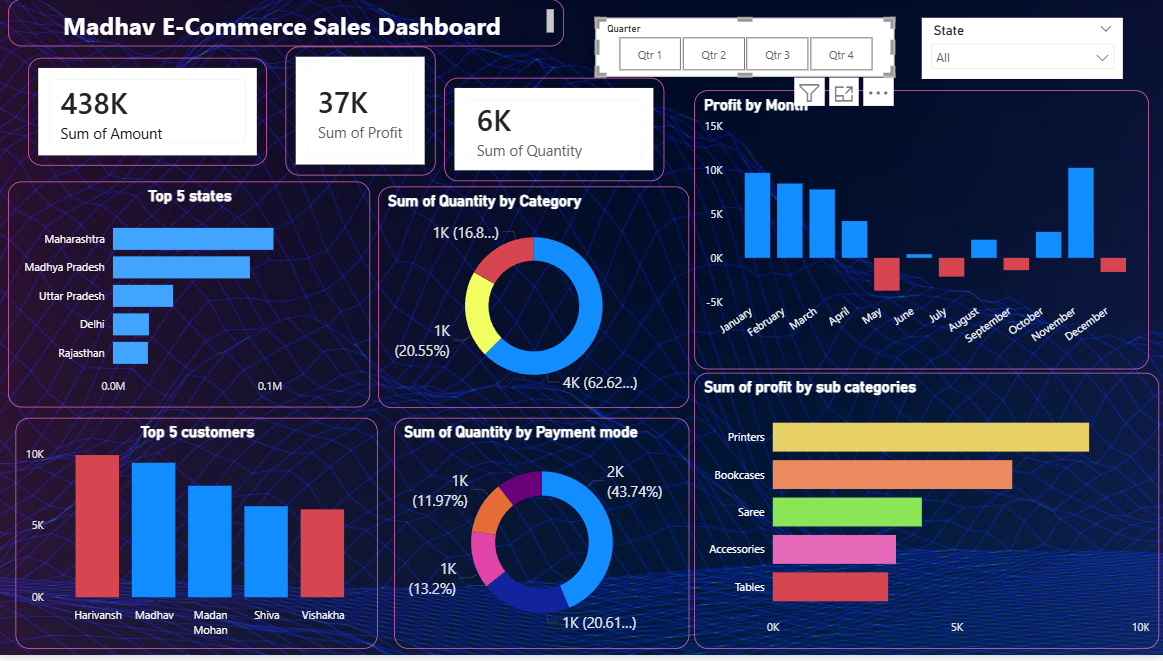

The page's visual inventory and layout, read from the dashboard file:
{"tool":"powerbi","page":{"name":"Page 1","canvas":[1280,720],"ordinal":0},"visuals":[{"type":"textbox","box":[11,0,610.6,52.1],"z":0},{"type":"columnChart","title":"Profit by Month","fields":{"Category":["Orders.Order Date.Variation.Date Hierarchy.Month"],"Y":["Sum(Details.Profit)"]},"box":[764.3,100.2,499.5,306],"z":1000},{"type":"barChart","title":"Sum of profit by sub categories","fields":{"Category":["Details.Sub-Category"],"Y":["Sum(Details.Profit)"]},"box":[764.3,410.3,510.5,303.3],"z":2000},{"type":"donutChart","title":"Sum of Quantity by Category","fields":{"Category":["Details.Category"],"Y":["Sum(Details.Quantity)"]},"box":[417.2,205.8,341.7,242.9],"z":3000},{"type":"donutChart","title":"Sum of Quantity by Payment mode","fields":{"Y":["Sum(Details.Quantity)"],"Category":["Details.PaymentMode"]},"box":[435,459.7,323.8,253.9],"z":4000},{"type":"cardVisual","fields":{"Data":["Sum(Details.Amount)"]},"box":[32.9,64.5,262.1,118],"z":5000},{"type":"cardVisual","title":"Sum of Profit","fields":{"Data":["Sum(Details.Profit)"]},"box":[315.6,52.1,164.7,141.3],"z":6000},{"type":"cardVisual","title":"Sum of Quantity","fields":{"Data":["Sum(Details.Quantity)"]},"box":[489.9,86.4,241.5,113.9],"z":7000},{"type":"barChart","title":"Top 5 states","fields":{"Category":["Orders.State"],"Y":["Sum(Details.Amount)"]},"box":[11,200.3,397.9,248.4],"z":8000},{"type":"columnChart","title":"Top 5 customers","fields":{"Category":["Orders.CustomerName"],"Y":["Sum(Details.Amount)"]},"box":[19.2,459.7,397.9,253.9],"z":9000},{"type":"slicer","fields":{"Values":["Orders.Order Date.Variation.Date Hierarchy.Quarter"]},"box":[655.9,20.6,328,64.5],"z":9001},{"type":"slicer","fields":{"Values":["Orders.State"]},"box":[1014.1,20.6,220.9,67.2],"z":9002}]}

Visuals, with their boxes in screenshot pixels (x1, y1, x2, y2), scaled from the page's 1280x720 canvas onto the 1163x661 screenshot:
textbox: {"x1": 10, "y1": 0, "x2": 565, "y2": 48}
"Profit by Month" columnChart: {"x1": 694, "y1": 92, "x2": 1148, "y2": 373}
"Sum of profit by sub categories" barChart: {"x1": 694, "y1": 377, "x2": 1158, "y2": 655}
"Sum of Quantity by Category" donutChart: {"x1": 379, "y1": 189, "x2": 690, "y2": 412}
"Sum of Quantity by Payment mode" donutChart: {"x1": 395, "y1": 422, "x2": 689, "y2": 655}
cardVisual - Sum(Details.Amount): {"x1": 30, "y1": 59, "x2": 268, "y2": 168}
"Sum of Profit" cardVisual: {"x1": 287, "y1": 48, "x2": 436, "y2": 178}
"Sum of Quantity" cardVisual: {"x1": 445, "y1": 79, "x2": 665, "y2": 184}
"Top 5 states" barChart: {"x1": 10, "y1": 184, "x2": 372, "y2": 412}
"Top 5 customers" columnChart: {"x1": 17, "y1": 422, "x2": 379, "y2": 655}
slicer - Orders.Order Date.Variation.Date Hierarchy.Quarter: {"x1": 596, "y1": 19, "x2": 894, "y2": 78}
slicer - Orders.State: {"x1": 921, "y1": 19, "x2": 1122, "y2": 81}
